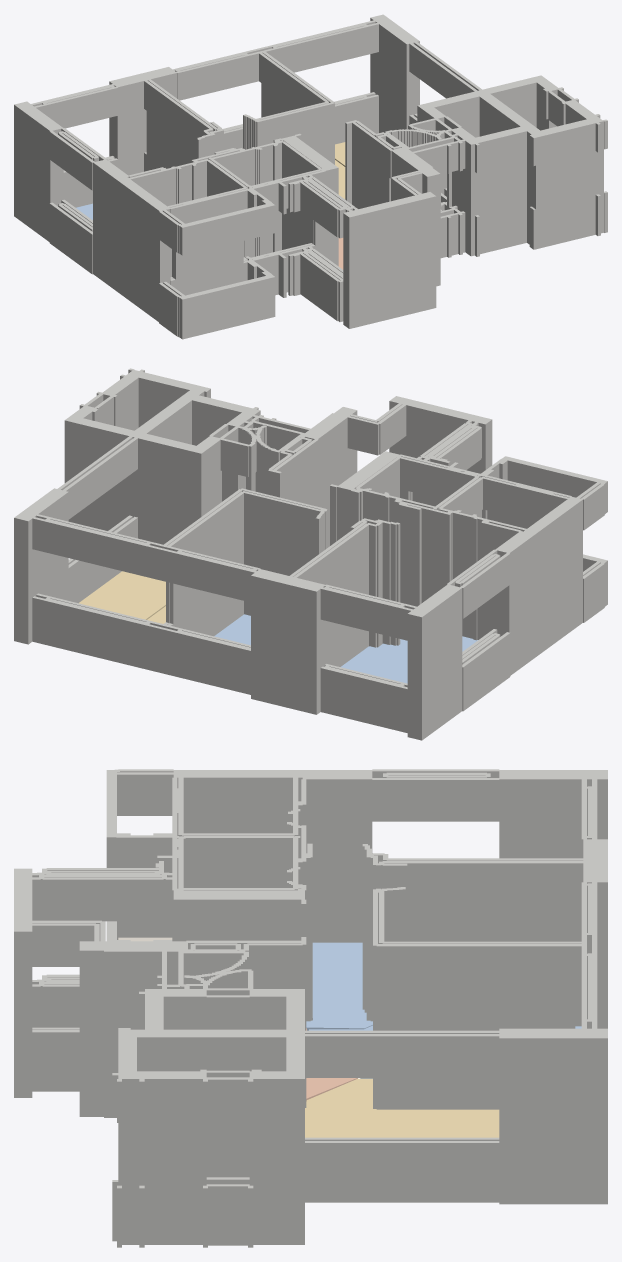
3 views of the same model, one above another, from view 1: azimuth 30°, elevation 25°; view 2: azimuth 150°, elevation 25°; view 3: azimuth 270°, elevation 25° (orthographic). The views are drawn at different scales.
Visible parts, largest first — view 1: walls; view 2: walls, room:living:3, room:bedroom:0, room:bedroom:1; view 3: walls, room:living:2, room:bedroom:0.
Boxes of the visible parts, x1,y1,x2,y2 form: walls: (14, 14, 607, 339); walls: (14, 368, 607, 740); room:living:3: (79, 571, 165, 619); room:bedroom:0: (340, 636, 477, 683); room:bedroom:1: (214, 614, 250, 645); walls: (14, 769, 607, 1247); room:living:2: (305, 1078, 499, 1137); room:bedroom:0: (306, 942, 372, 1030).
Bounding box in the file's own units: 11.28 × 2.8 × 9.07.
